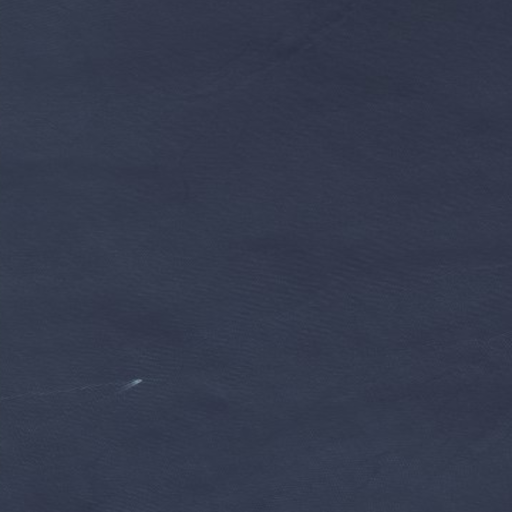ship: (133, 377, 144, 386)
